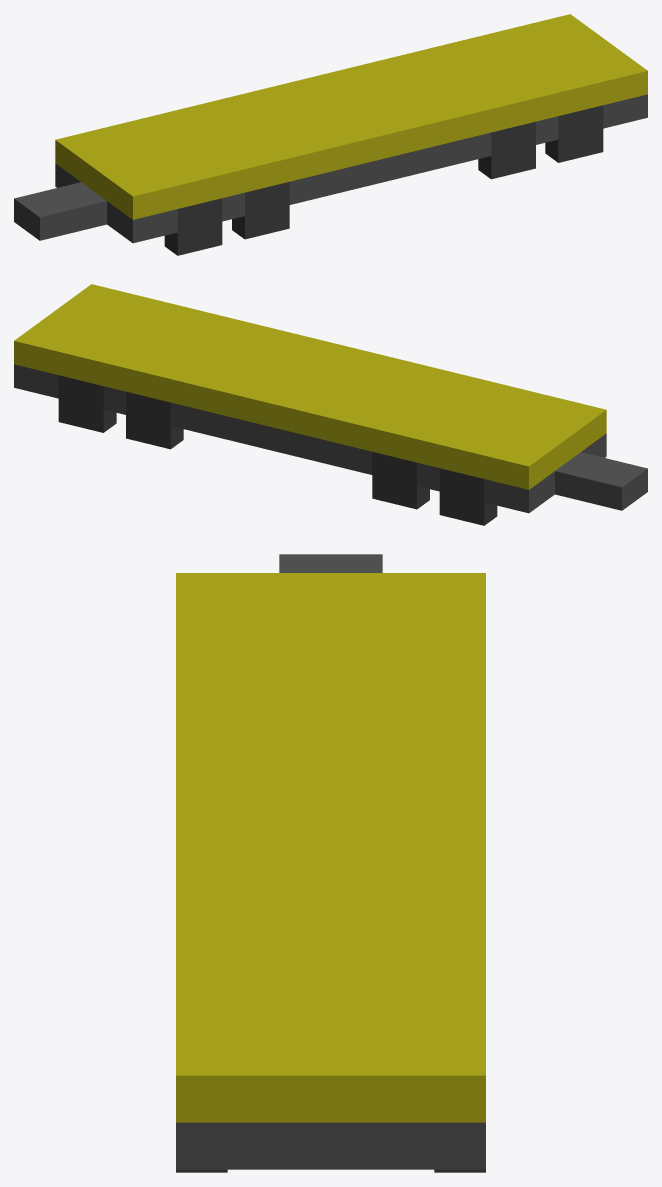
File: train-trailer-v6-yellow.gltf
The picture shows the model from 3 angles, top to bottom: view 1: azimuth 30°, elevation 25°; view 2: azimuth 150°, elevation 25°; view 3: azimuth 270°, elevation 25°; orthographic projection. The views are drawn at different scales.
Parts seen in each view (by area): view 1: model, wheels; view 2: model, wheels; view 3: model.
Boxes of the visible parts, left/top/right/bottom form: model: left=14, top=14, right=647, bottom=243; wheels: left=164, top=105, right=603, bottom=255; model: left=14, top=284, right=647, bottom=513; wheels: left=58, top=375, right=497, bottom=525; model: left=176, top=554, right=485, bottom=1169.
Bounding box in the file's own units: 2.6 × 0.3 × 0.6.
2 materials, 2 textured.
